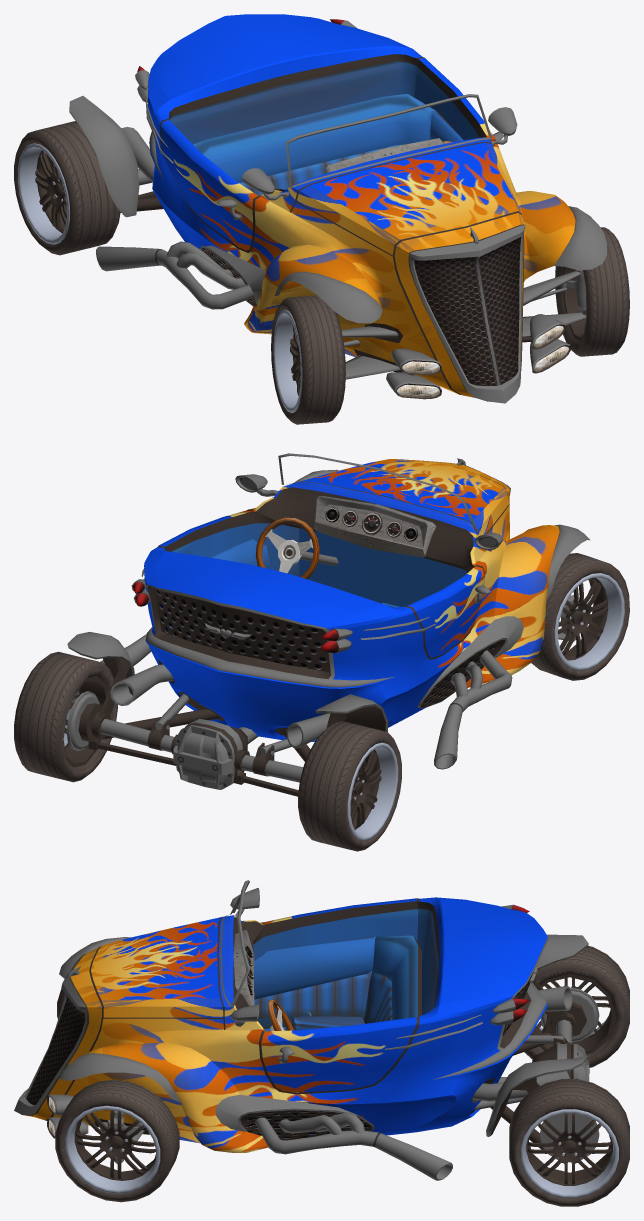
Rendered from Classic_race_car.glb.
3 views of the same model, one above another, from view 1: azimuth 30°, elevation 25°; view 2: azimuth 150°, elevation 25°; view 3: azimuth 270°, elevation 25° (orthographic). The views are drawn at different scales.
Visible parts, largest first — view 1: Body.19, wheel2.16, wheel3.17, wheel.14, Exhaust.7, Axles_rear_right.2, Headlights_Chrome.12, Axle_front_right.18, polySurface8.11, polySurface7.20; view 2: Body.19, wheel2.16, wheel3.17, wheel1.15, Axle_rear_left.3, Exhaust.7, rear_diff.8, Axles_rear_right.2, polySurface8.11, SteeringWheel.4, polySurface7.20; view 3: Body.19, wheel1.15, wheel.14, Exhaust.7, wheel2.16, Axles_rear_right.2, Axle_rear_left.3, polySurface8.11, rear_diff.8, polySurface7.20, Headlights_Chrome.12, SteeringWheel.4.
Boxes of the visible parts, left/top/right/bottom form: Body.19: left=145, top=14, right=607, bottom=403; wheel2.16: left=14, top=121, right=120, bottom=255; wheel3.17: left=271, top=295, right=345, bottom=424; wheel.14: left=555, top=227, right=629, bottom=356; Exhaust.7: left=96, top=127, right=254, bottom=309; Axles_rear_right.2: left=69, top=96, right=163, bottom=217; Headlights_Chrome.12: left=386, top=314, right=570, bottom=399; Axle_front_right.18: left=341, top=270, right=586, bottom=379; polySurface8.11: left=135, top=19, right=517, bottom=220; polySurface7.20: left=286, top=94, right=491, bottom=187; Body.19: left=141, top=459, right=589, bottom=741; wheel2.16: left=298, top=721, right=401, bottom=851; wheel3.17: left=531, top=553, right=629, bottom=680; wheel1.15: left=14, top=651, right=117, bottom=782; Axle_rear_left.3: left=66, top=632, right=219, bottom=765; Exhaust.7: left=100, top=634, right=512, bottom=769; rear_diff.8: left=173, top=719, right=258, bottom=789; Axles_rear_right.2: left=234, top=694, right=388, bottom=796; polySurface8.11: left=131, top=474, right=502, bottom=653; SteeringWheel.4: left=255, top=517, right=338, bottom=579; polySurface7.20: left=278, top=453, right=478, bottom=532; Body.19: left=14, top=897, right=548, bottom=1152; wheel1.15: left=509, top=1079, right=629, bottom=1206; wheel.14: left=55, top=1079, right=179, bottom=1202; Exhaust.7: left=251, top=985, right=572, bottom=1180; wheel2.16: left=524, top=945, right=629, bottom=1067; Axles_rear_right.2: left=513, top=934, right=599, bottom=1055; Axle_rear_left.3: left=474, top=1056, right=599, bottom=1162; polySurface8.11: left=230, top=888, right=529, bottom=1063; rear_diff.8: left=498, top=1044, right=589, bottom=1082; polySurface7.20: left=220, top=880, right=249, bottom=1007; Headlights_Chrome.12: left=47, top=1035, right=88, bottom=1138; SteeringWheel.4: left=267, top=999, right=293, bottom=1031.
Bounding box in the file's own units: 0.0187 × 0.0107 × 0.0281.
Materials: 44 (44 with a texture image).
